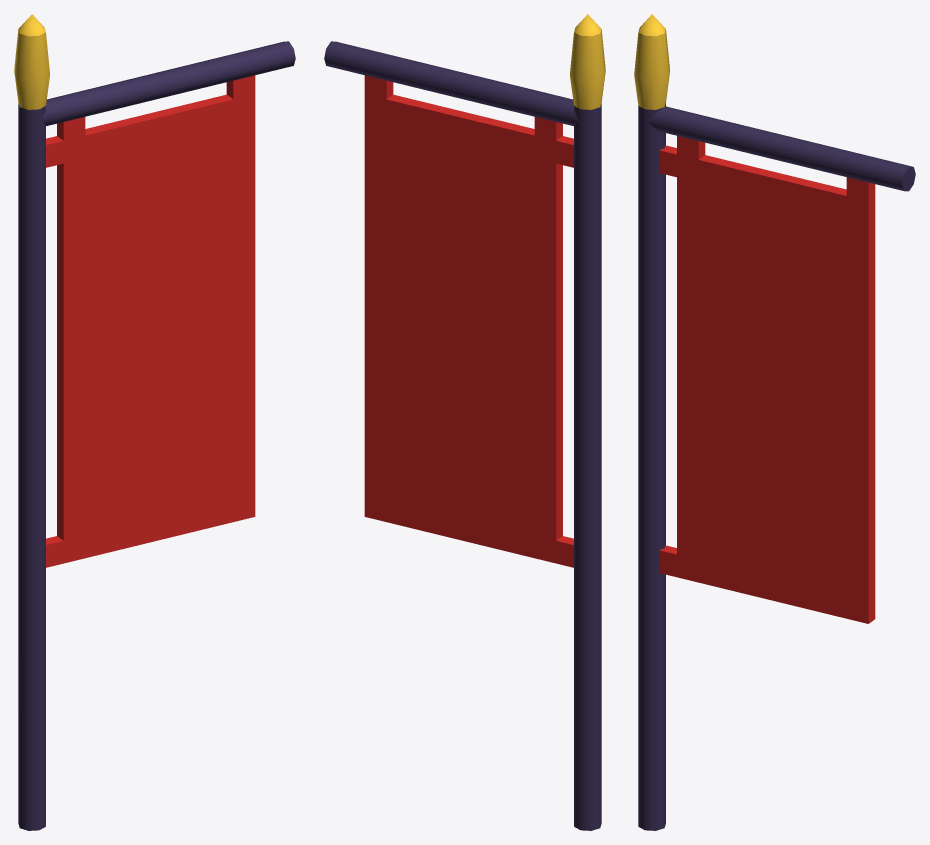
The model's file is Flag 1.fbx.
The picture shows the model from 3 angles, left to right: view 1: azimuth 30°, elevation 25°; view 2: azimuth 150°, elevation 25°; view 3: azimuth 330°, elevation 25°; orthographic projection.
Visible parts, largest first — view 1: Flag; view 2: Flag; view 3: Flag.
Part boxes in pixels (x1,y1,x2,y2): Flag: [14, 14, 295, 830]; Flag: [324, 14, 605, 830]; Flag: [634, 14, 915, 830].
Size of the model in its own units: 139 by 396 by 16.48.
1 material, 1 textured.
